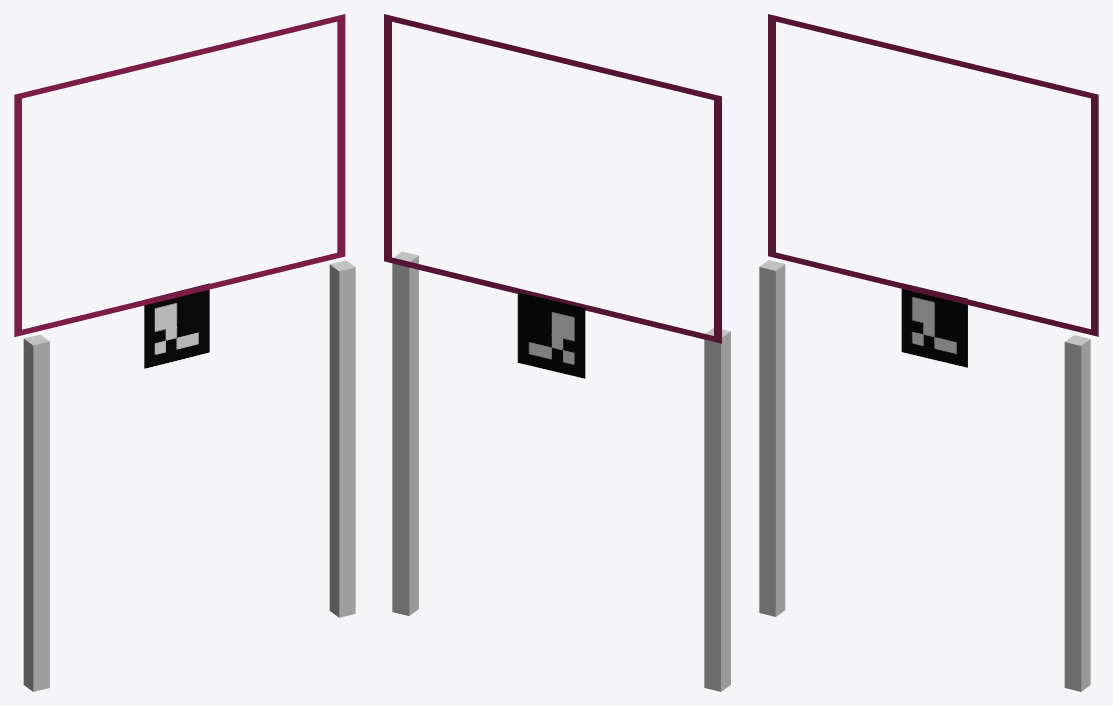
File: gate2.dae
The picture shows the model from 3 angles, left to right: view 1: azimuth 30°, elevation 25°; view 2: azimuth 150°, elevation 25°; view 3: azimuth 330°, elevation 25°; orthographic projection. The views are drawn at different scales.
Parts seen in each view (by area): view 1: left1.0, right1.0, Gate1.001, crop2; view 2: left1.0, right1.0, Gate1.001, crop2; view 3: left1.0, right1.0, Gate1.001, crop2.
Boxes of the visible parts, x1=… form: left1.0: x1=329, y1=260, x2=355, y2=617; right1.0: x1=23, y1=334, x2=49, y2=691; Gate1.001: x1=14, y1=14, x2=345, y2=336; crop2: x1=144, y1=283, x2=209, y2=368; left1.0: x1=392, y1=251, x2=418, y2=615; right1.0: x1=704, y1=327, x2=730, y2=691; Gate1.001: x1=384, y1=14, x2=721, y2=343; crop2: x1=517, y1=292, x2=585, y2=378; left1.0: x1=1064, y1=335, x2=1090, y2=691; right1.0: x1=759, y1=260, x2=785, y2=616; Gate1.001: x1=768, y1=14, x2=1098, y2=336; crop2: x1=901, y1=283, x2=967, y2=367.
Size of what is drawn, in the model's own units: 1 by 0.0853 by 1.7.
Materials: 3 (1 with a texture image).
